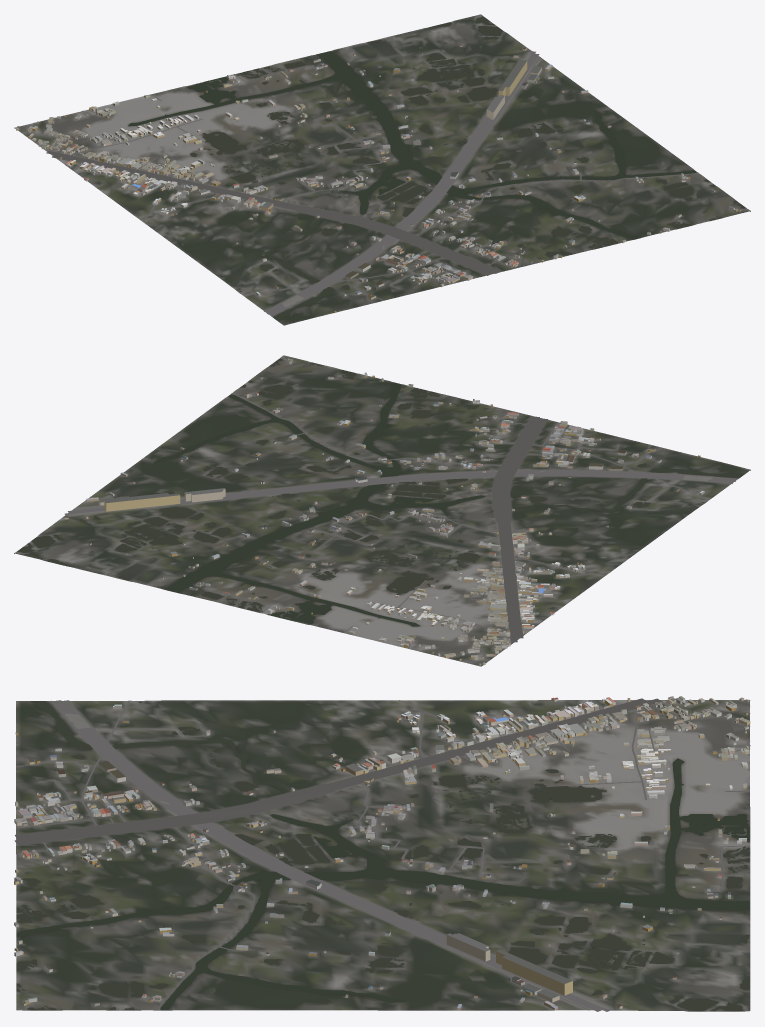
The picture shows the model from 3 angles, top to bottom: view 1: azimuth 30°, elevation 25°; view 2: azimuth 150°, elevation 25°; view 3: azimuth 270°, elevation 25°; orthographic projection. The views are drawn at different scales.
Visible parts, largest first — view 1: ground, water, buildings, roads; view 2: ground, water, buildings, roads; view 3: ground, water, buildings, roads.
Boxes of the visible parts, box(x1,y1,x2,y2) form: ground: box(14, 14, 750, 325); water: box(128, 16, 745, 321); buildings: box(16, 44, 740, 312); roads: box(14, 51, 698, 316); ground: box(14, 355, 750, 666); water: box(17, 358, 744, 626); buildings: box(64, 357, 704, 665); roads: box(64, 393, 737, 666); ground: box(16, 700, 750, 1011); water: box(16, 701, 749, 1010); buildings: box(14, 696, 750, 1010); roads: box(14, 698, 750, 1011).
Bounding box in the file's own units: 1415 × 29.62 × 1406.
